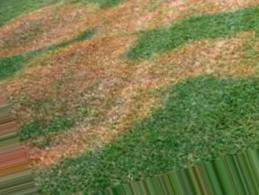patch: (32, 96, 129, 143), (5, 5, 83, 53), (31, 61, 120, 87), (129, 56, 245, 73), (91, 33, 131, 60), (101, 9, 164, 25)
